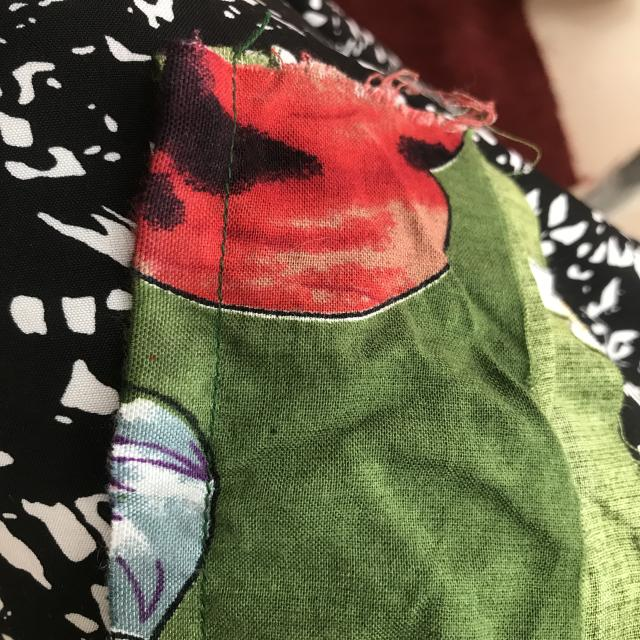good: (211, 206, 237, 292)
